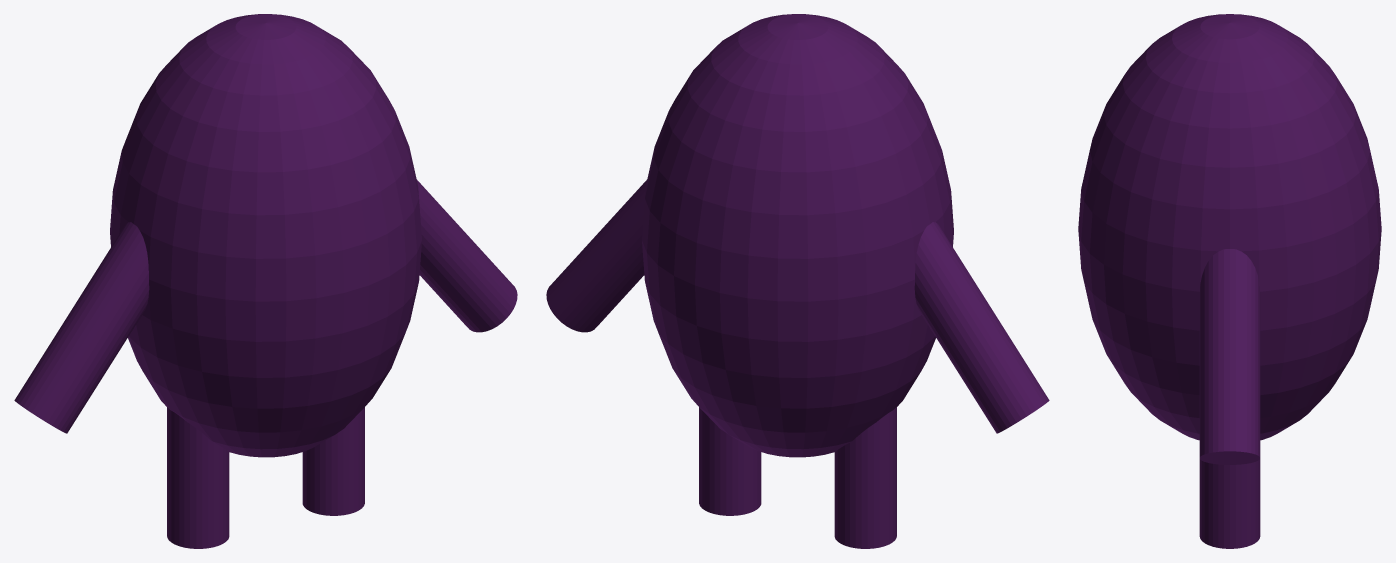
Rendered from tamer_1.glb.
3 renders of one model, left to right at view 1: azimuth 30°, elevation 25°; view 2: azimuth 150°, elevation 25°; view 3: azimuth 270°, elevation 25°, orthographic. The views are drawn at different scales.
Visible parts, largest first — view 1: Sphere, Cylinder.003, Cylinder.002, Cylinder.001, Cylinder; view 2: Sphere, Cylinder.003, Cylinder.002, Cylinder.001, Cylinder; view 3: Sphere, Cylinder.002, Cylinder.
Boxes of the visible parts, x1,y1,x2,y2 form: Sphere: (110, 14, 421, 457); Cylinder.003: (14, 222, 149, 433); Cylinder.002: (416, 179, 517, 332); Cylinder.001: (167, 407, 229, 548); Cylinder: (302, 407, 364, 515); Sphere: (642, 14, 953, 457); Cylinder.003: (914, 222, 1049, 433); Cylinder.002: (546, 179, 647, 332); Cylinder.001: (834, 407, 896, 548); Cylinder: (699, 407, 761, 515); Sphere: (1078, 14, 1381, 440); Cylinder.002: (1199, 249, 1260, 464); Cylinder: (1199, 459, 1260, 548).
Bounding box in the file's own units: 1.82 × 1.75 × 1.
